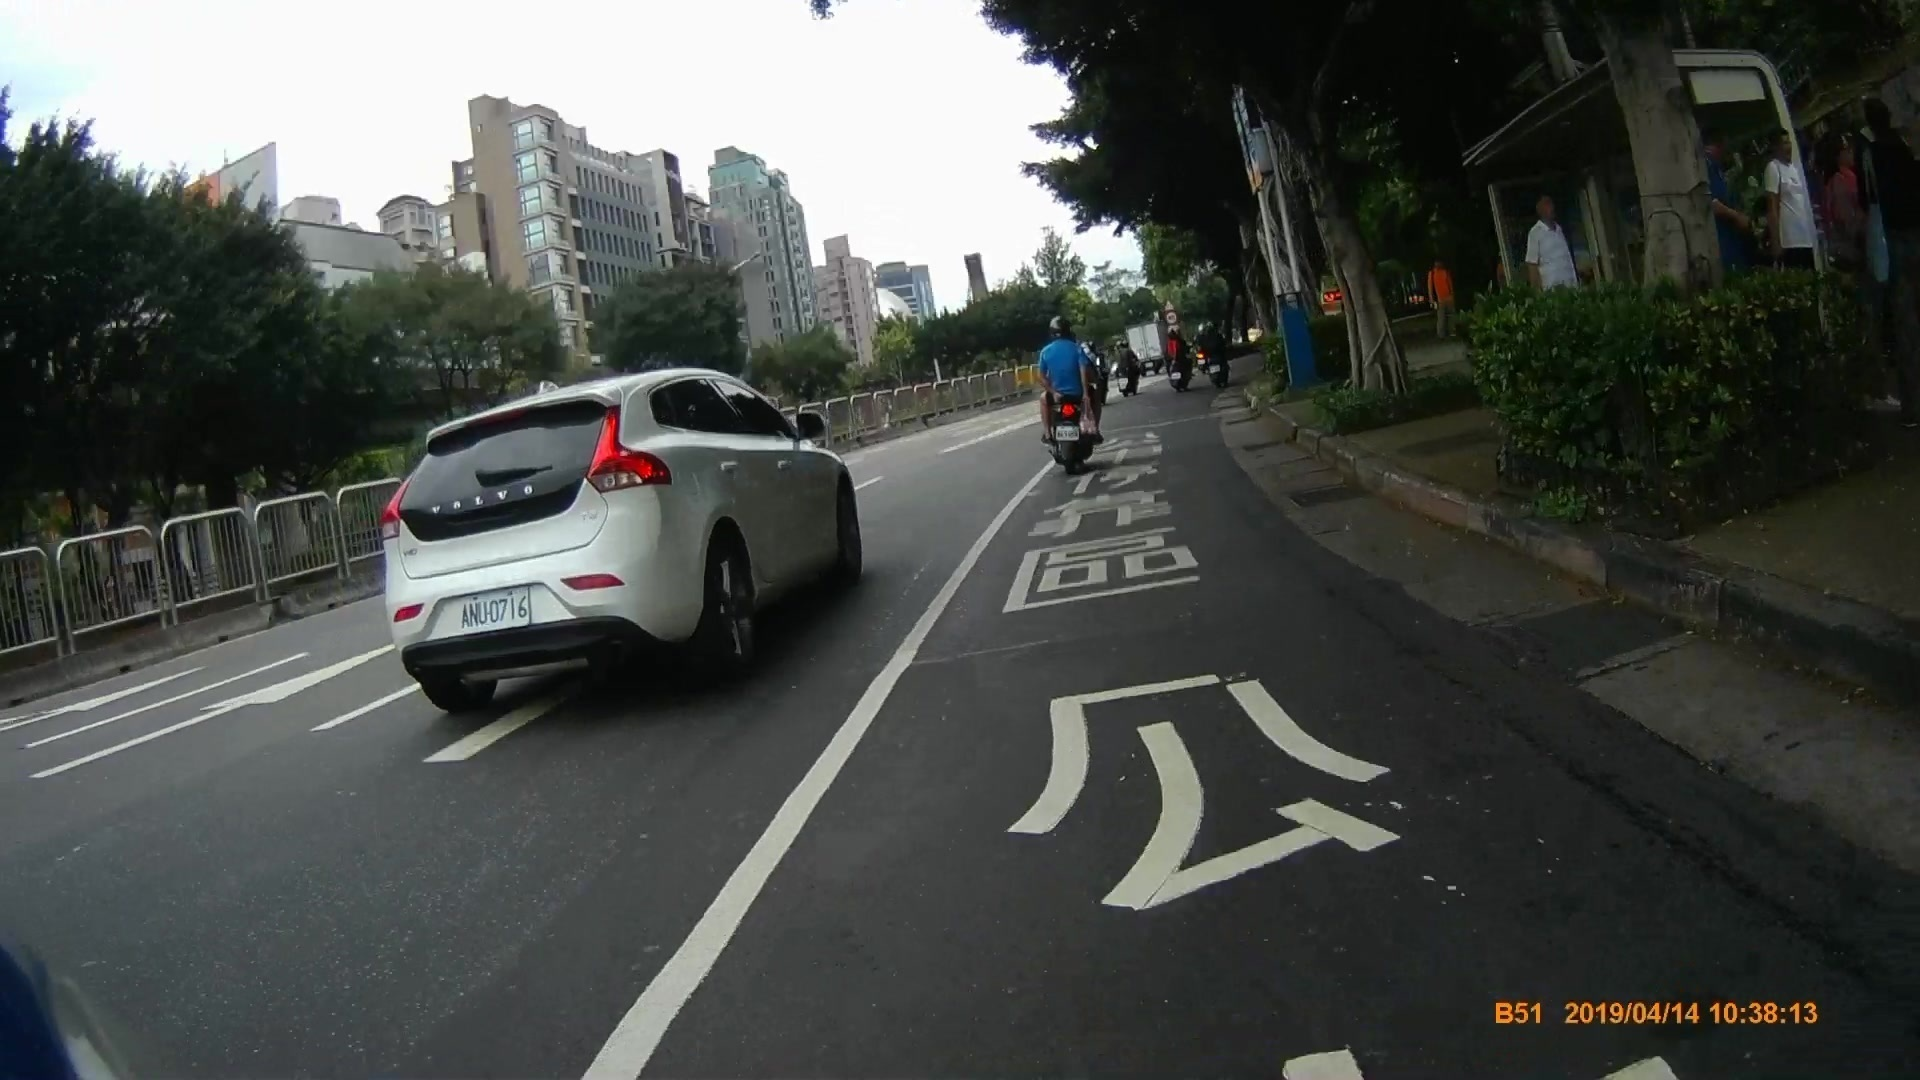License_plate: (452, 585, 532, 627), (1052, 424, 1081, 443)
